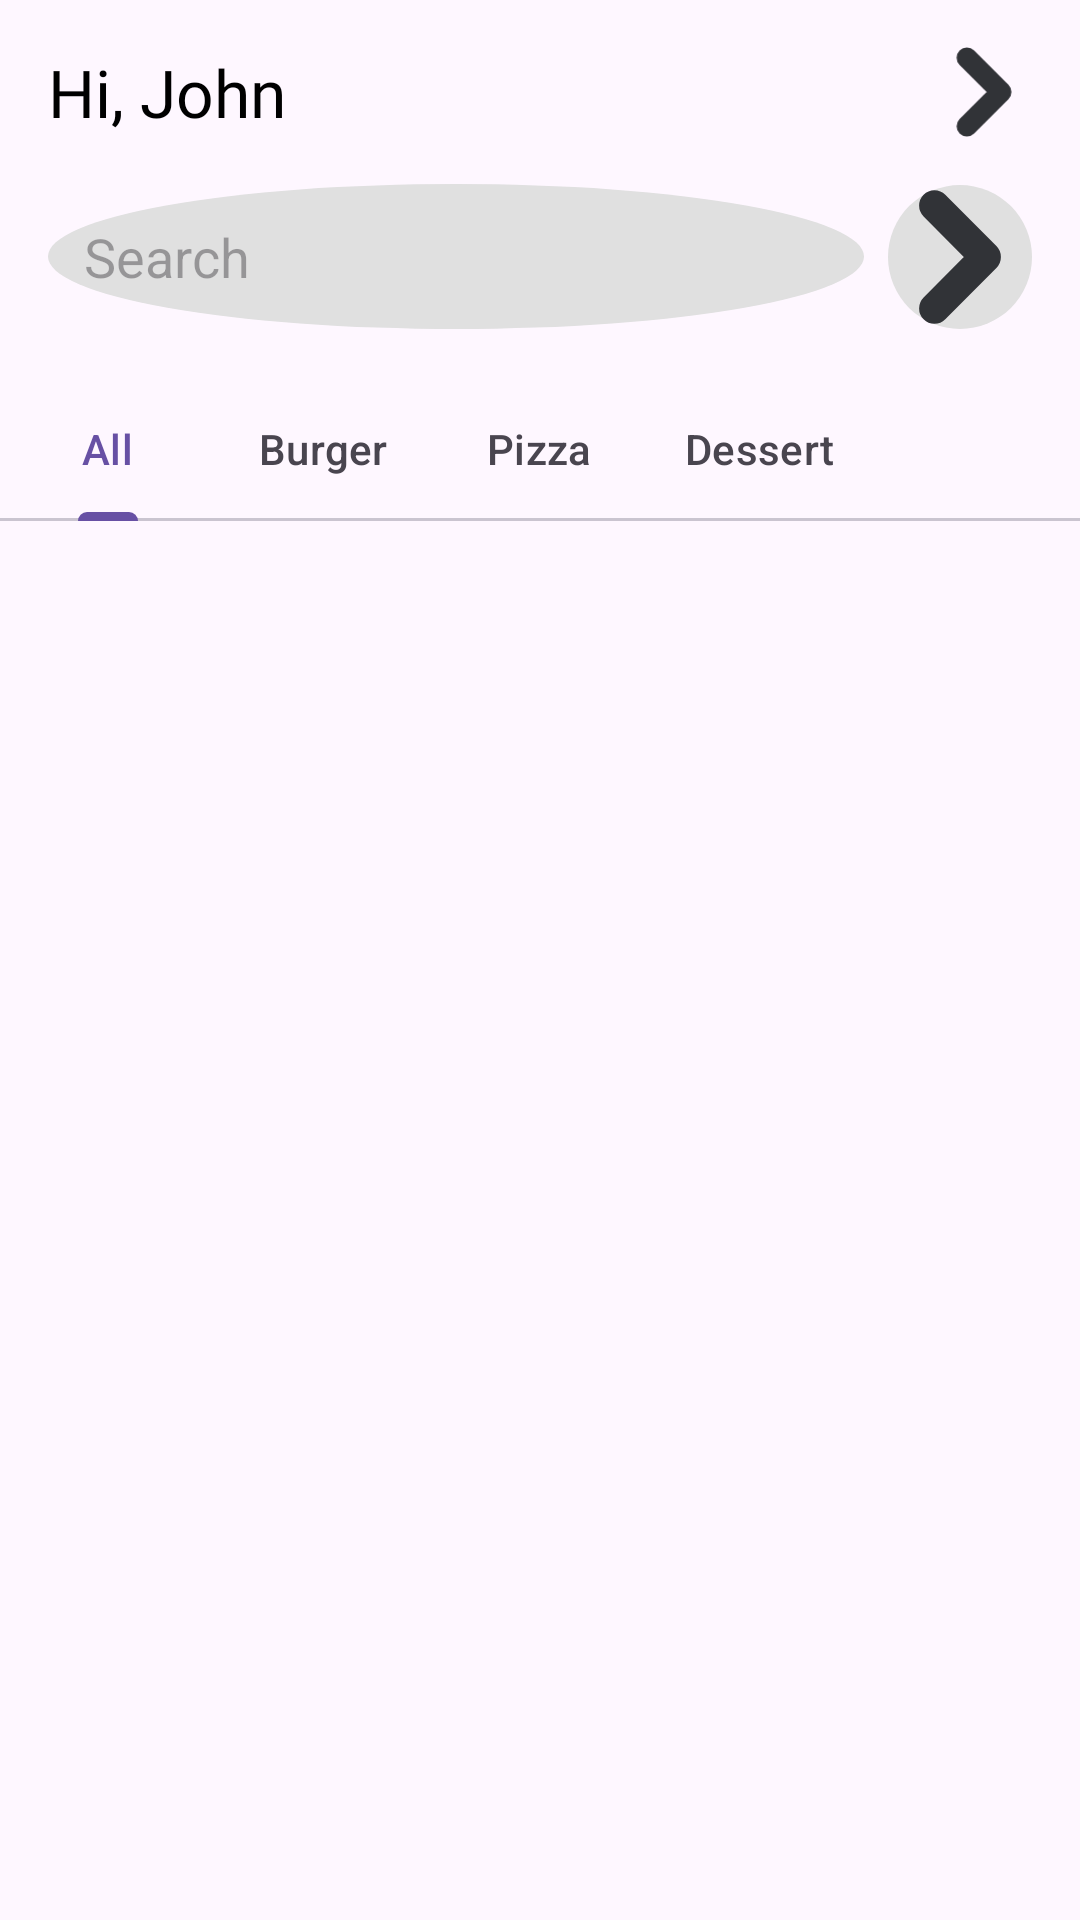

Screen size 1080 × 1920. Icon name, then its center in pixels as point (x, y):
arrow forward: point (984, 92), point (960, 257)
